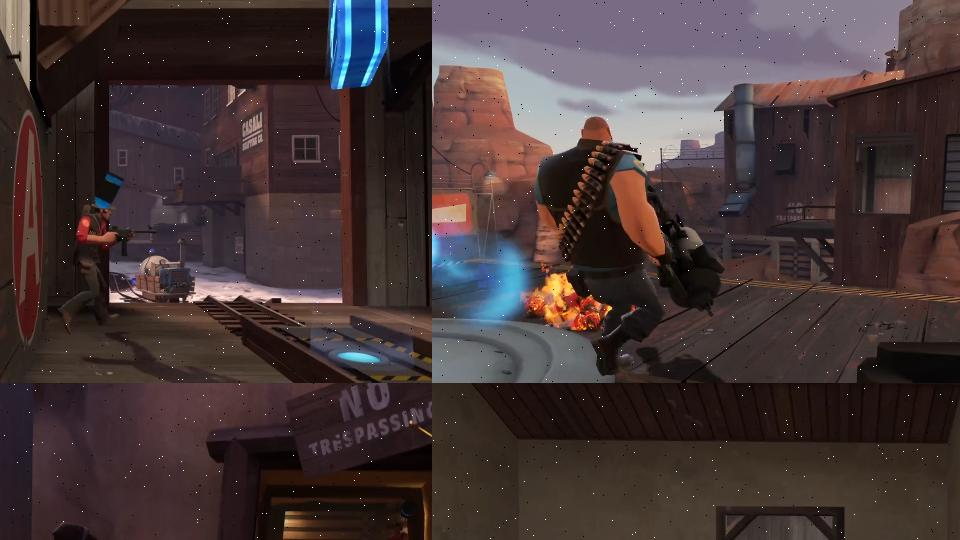Enemy: (531, 113, 729, 382), (57, 201, 159, 338), (383, 521, 414, 540)
